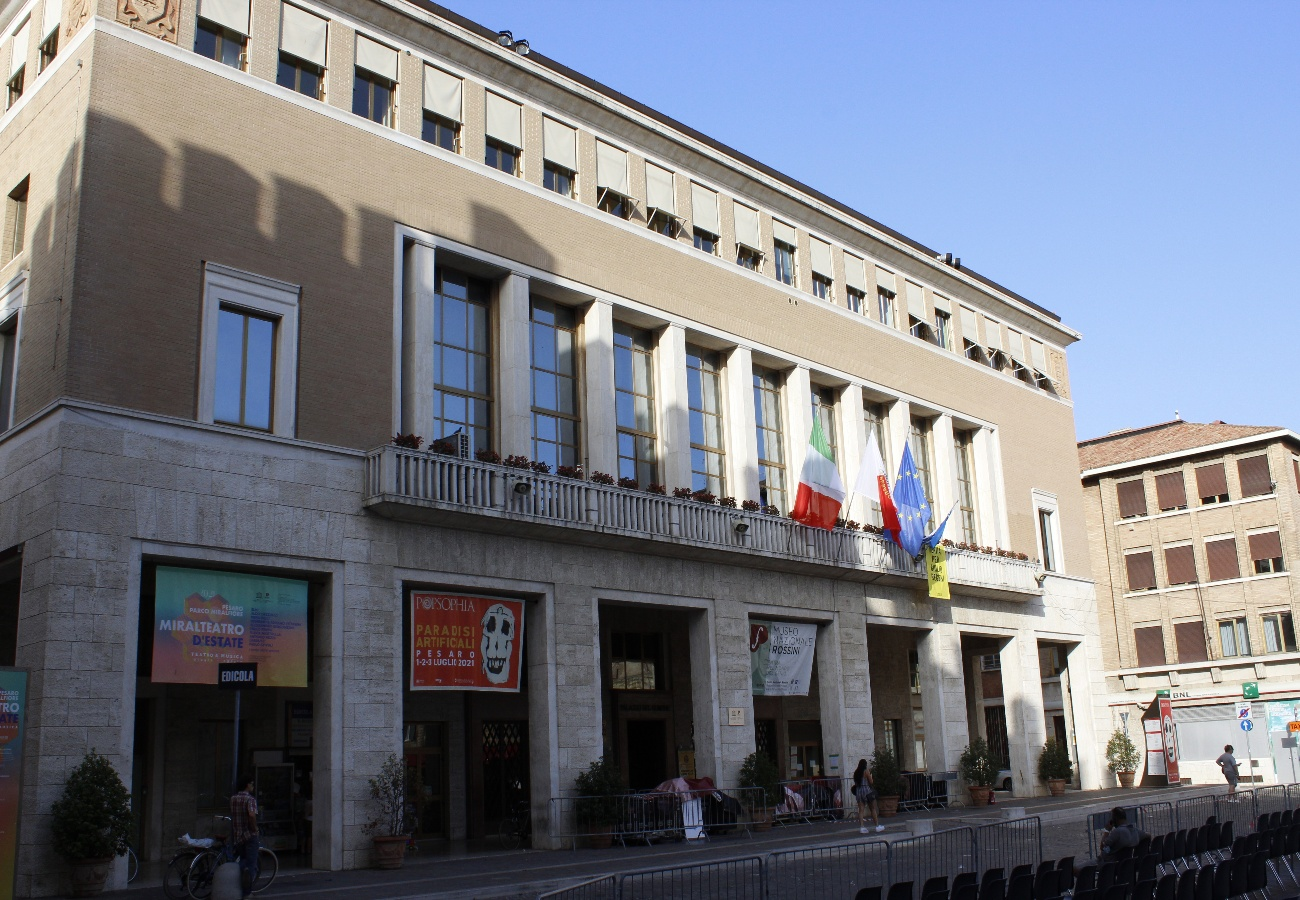Palazzo Comunale: (96, 12, 1108, 900)
